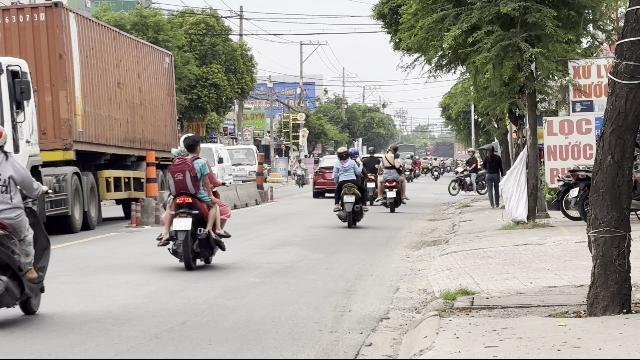licenseplate: (172, 218, 192, 230)
motorcyclist: (156, 132, 232, 268)
nohelmet: (180, 134, 202, 156)
